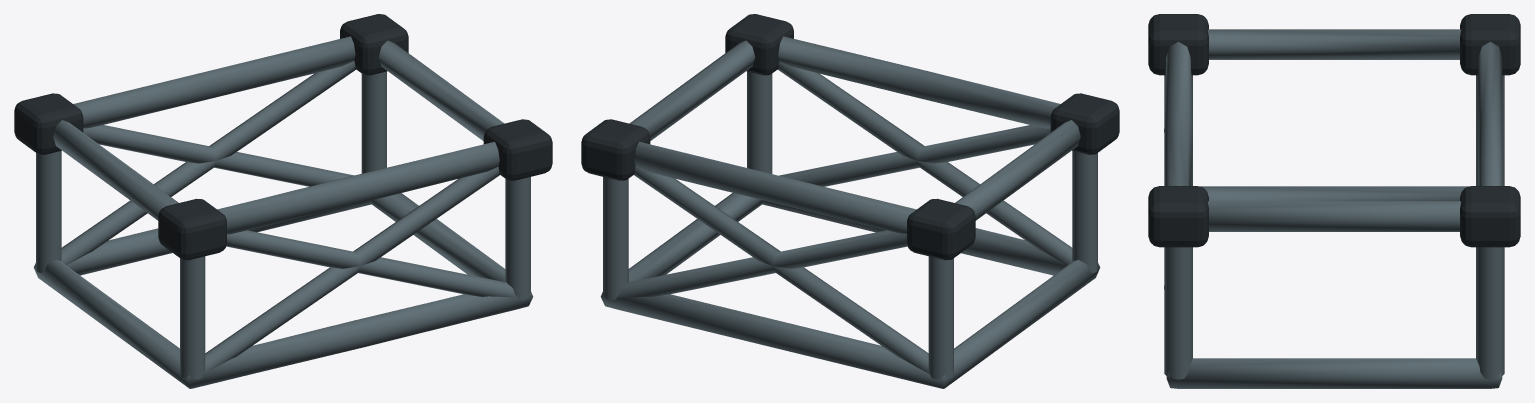
File: lightweight_frame.glb
3 views of the same model, side by side, from view 1: azimuth 30°, elevation 25°; view 2: azimuth 150°, elevation 25°; view 3: azimuth 270°, elevation 25° (orthographic). The views are drawn at different scales.
Visible parts, largest first — view 1: FramePerimeter.001, FramePerimeter, FrameCorner.002, FrameDiagonal.001, FrameUpright.002, FrameDiagonal, FrameDiagonal.002, FrameUpright.003, FrameDiagonal.003, FrameCorner.003; view 2: FramePerimeter.001, FramePerimeter, FrameCorner.003, FrameDiagonal.003, FrameUpright.003, FrameDiagonal.002, FrameDiagonal, FrameUpright.002, FrameDiagonal.001, FrameCorner.002; view 3: FramePerimeter.001, FramePerimeter, FrameCorner.003, FrameCorner.002, FrameUpright.003, FrameUpright.002.
Boxes of the visible parts, <box> form: FramePerimeter.001: <box>53,36,504,234</box>; FramePerimeter: <box>33,193,533,388</box>; FrameCorner.002: <box>158,119,552,260</box>; FrameDiagonal.001: <box>204,257,516,373</box>; FrameUpright.002: <box>180,177,530,379</box>; FrameDiagonal: <box>226,166,499,268</box>; FrameDiagonal.002: <box>83,61,355,163</box>; FrameUpright.003: <box>36,71,386,273</box>; FrameDiagonal.003: <box>61,152,354,265</box>; FrameCorner.003: <box>14,14,408,154</box>; FramePerimeter.001: <box>629,36,1080,233</box>; FramePerimeter: <box>600,193,1100,388</box>; FrameCorner.003: <box>581,119,975,260</box>; FrameDiagonal.003: <box>616,257,929,373</box>; FrameUpright.003: <box>603,177,953,379</box>; FrameDiagonal.002: <box>634,166,907,268</box>; FrameDiagonal: <box>778,61,1050,163</box>; FrameUpright.002: <box>747,71,1097,273</box>; FrameDiagonal.001: <box>779,152,1072,265</box>; FrameCorner.002: <box>725,14,1119,154</box>; FramePerimeter.001: <box>1164,29,1502,231</box>; FramePerimeter: <box>1164,186,1502,388</box>; FrameCorner.003: <box>1460,14,1520,247</box>; FrameCorner.002: <box>1148,14,1208,247</box>; FrameUpright.003: <box>1476,75,1504,379</box>; FrameUpright.002: <box>1164,75,1192,379</box>.
Bounding box in the file's own units: 1.08 × 0.494 × 0.86.
